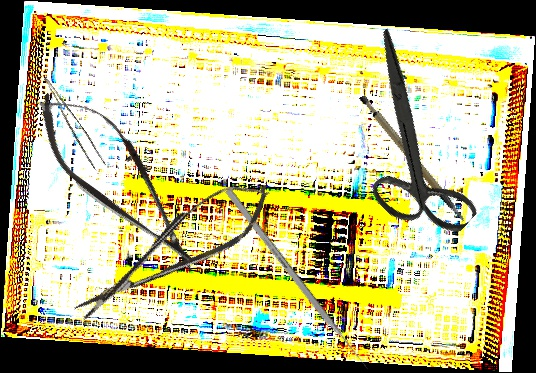Iris Scissors: (295, 27, 529, 258)
Micro Scissor: (18, 72, 222, 291), (60, 168, 284, 333)
Pusher: (224, 188, 371, 372)
Scalpel Handle: (357, 83, 466, 236)
Tissue Forceps: (33, 76, 110, 173)
